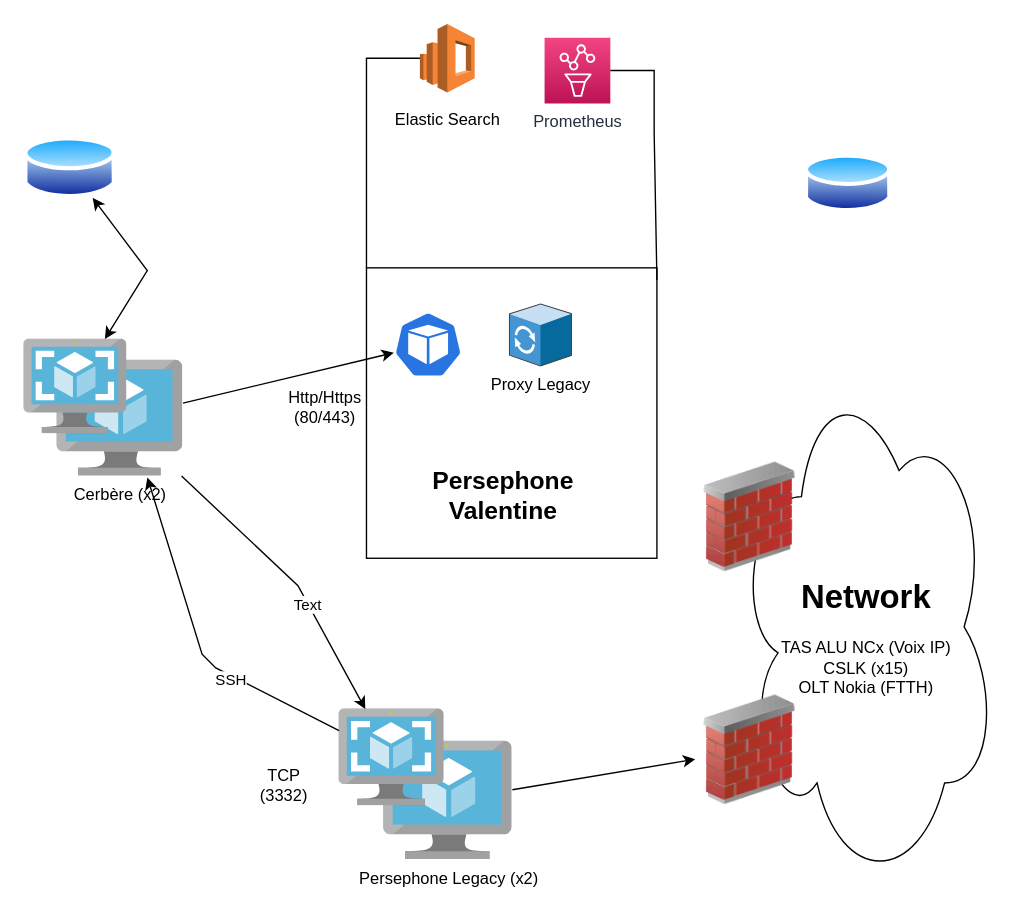
The diagram is 1021 pixels wide and 912 high, and some of its shapes have lost their labels. Here are the shapes that lost their labels. From the top down, the centre of each, then its label:
At [69,167]: "HiSpeed".
At [847,183]: "BDD".
At [427,343]: "API".
